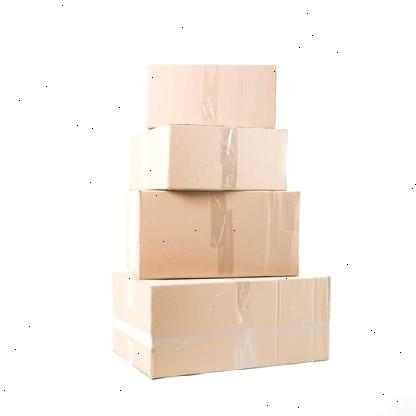box: (153, 276, 329, 380), (138, 192, 300, 280), (147, 64, 275, 128), (172, 123, 288, 192)
